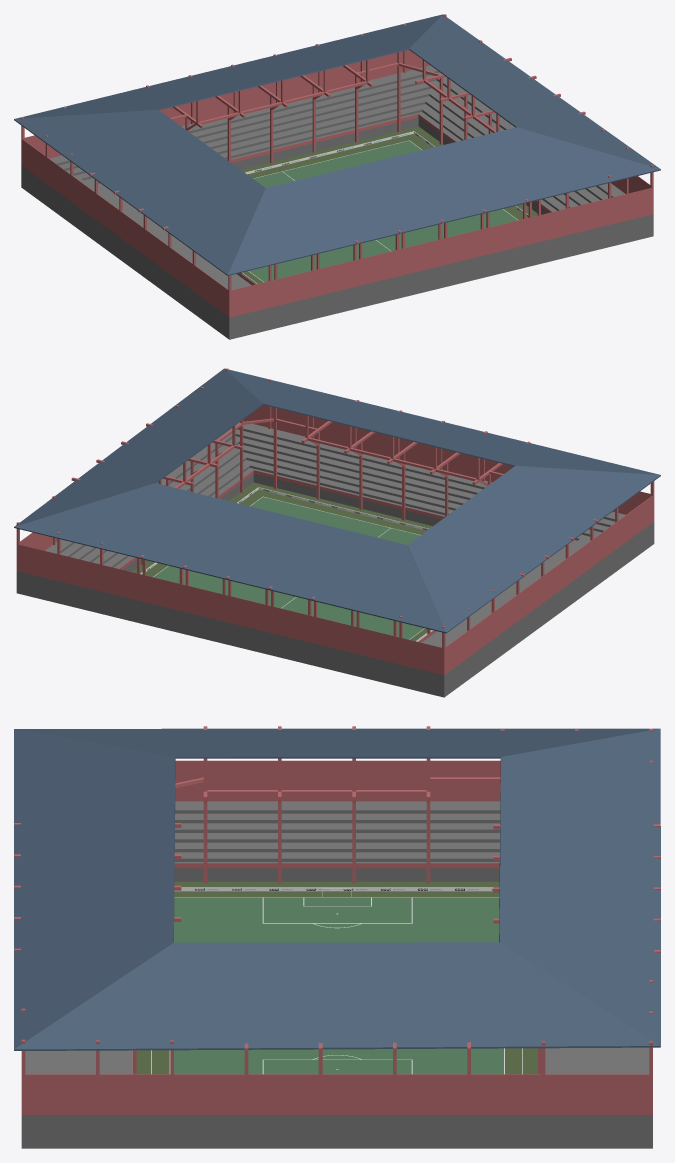
File: StadiumESGI_2.fbx
The picture shows the model from 3 angles, top to bottom: view 1: azimuth 30°, elevation 25°; view 2: azimuth 150°, elevation 25°; view 3: azimuth 270°, elevation 25°; orthographic projection. The views are drawn at different scales.
Visible parts, largest first — view 1: Roof_e (×2), Roof_s (×2), Tribune1, Tribune2, Tribune2_Walls, Tribune1_Walls, soccer_terran, Tribune1_RoofBar, Exterior, Tribune2_RoofBar, Columns2, Tribune1_Columns (+1 smaller); view 2: Roof_e (×2), Roof_s (×2), Tribune1_Walls, Tribune1, Tribune2, Tribune2_Walls, soccer_terran, Tribune2_RoofBar, Exterior, Tribune1_Columns, Columns2, Tribune1_RoofBar (+1 smaller); view 3: Roof_e (×2), Roof_s (×2), Tribune1, Tribune2_Walls, Tribune2, soccer_terran, Tribune1_Walls, Exterior, Tribune1_RoofBar, Columns2, Ad1, Line1.
Part boxes in pixels (x1=…): Roof_e (×2): x1=15, y1=14, x2=660, y2=275; Roof_s (×2): x1=14, y1=14, x2=659, y2=275; Tribune1: x1=21, y1=65, x2=439, y2=339; Tribune2: x1=229, y1=72, x2=653, y2=339; Tribune2_Walls: x1=229, y1=114, x2=651, y2=317; Tribune1_Walls: x1=22, y1=50, x2=430, y2=316; soccer_terran: x1=249, y1=141, x2=517, y2=282; Tribune1_RoofBar: x1=89, y1=44, x2=400, y2=230; Exterior: x1=241, y1=126, x2=537, y2=283; Tribune2_RoofBar: x1=274, y1=57, x2=585, y2=279; Columns2: x1=228, y1=40, x2=653, y2=316; Tribune1_Columns: x1=21, y1=14, x2=446, y2=316; Roof_e (×2): x1=14, y1=368, x2=659, y2=633; Roof_s (×2): x1=14, y1=368, x2=660, y2=632; Tribune1_Walls: x1=16, y1=495, x2=652, y2=674; Tribune1: x1=16, y1=522, x2=654, y2=697; Tribune2: x1=45, y1=422, x2=625, y2=571; Tribune2_Walls: x1=20, y1=405, x2=654, y2=569; soccer_terran: x1=153, y1=497, x2=424, y2=639; Tribune2_RoofBar: x1=71, y1=400, x2=530, y2=564; Exterior: x1=131, y1=482, x2=432, y2=641; Tribune1_Columns: x1=16, y1=484, x2=652, y2=674; Columns2: x1=16, y1=368, x2=654, y2=571; Tribune1_RoofBar: x1=137, y1=519, x2=598, y2=636; Roof_e (×2): x1=14, y1=728, x2=660, y2=1048; Roof_s (×2): x1=14, y1=728, x2=660, y2=1050; Tribune1: x1=174, y1=801, x2=649, y2=1074; Tribune2_Walls: x1=25, y1=1050, x2=649, y2=1114; Tribune2: x1=21, y1=1050, x2=652, y2=1148; soccer_terran: x1=174, y1=897, x2=503, y2=1074; Tribune1_Walls: x1=174, y1=760, x2=500, y2=868; Exterior: x1=136, y1=881, x2=537, y2=1074; Tribune1_RoofBar: x1=175, y1=726, x2=660, y2=1074; Columns2: x1=21, y1=1008, x2=652, y2=1114; Ad1: x1=174, y1=887, x2=493, y2=891; Line1: x1=169, y1=897, x2=504, y2=1074.
Size of the model in its own units: 2.05 by 0.4213 by 1.74.
